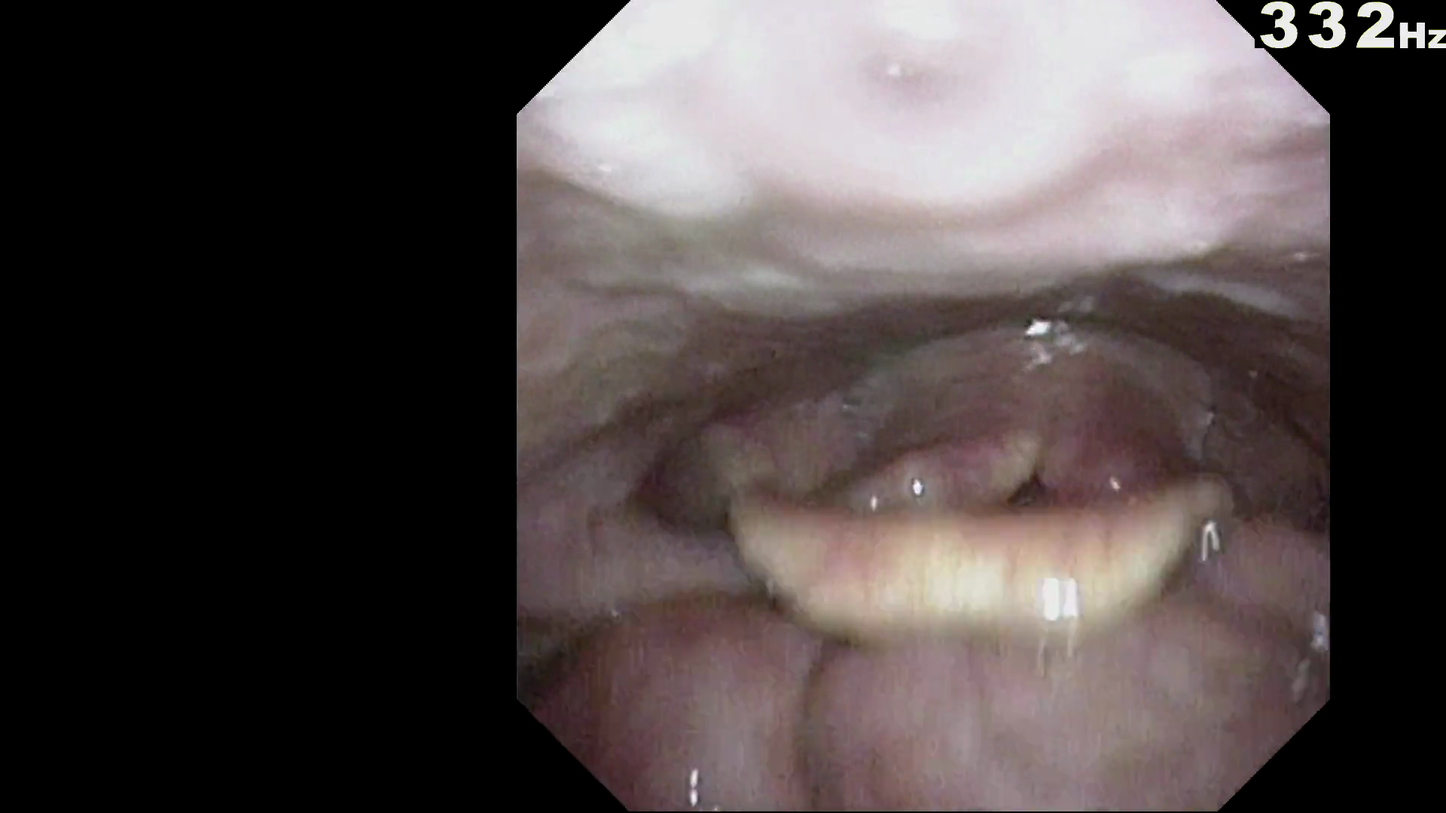epiglottis: (719, 535, 1261, 674)
trachea: (965, 484, 1112, 582)
